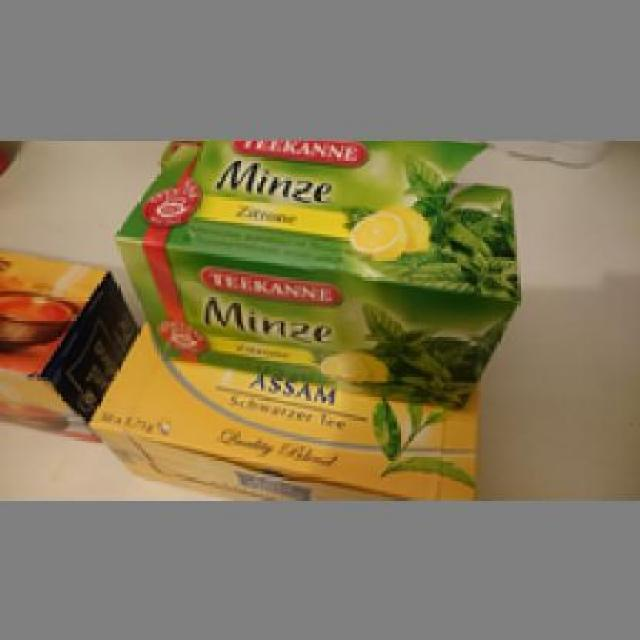Tea: (114, 148, 514, 408), (0, 254, 126, 446)
